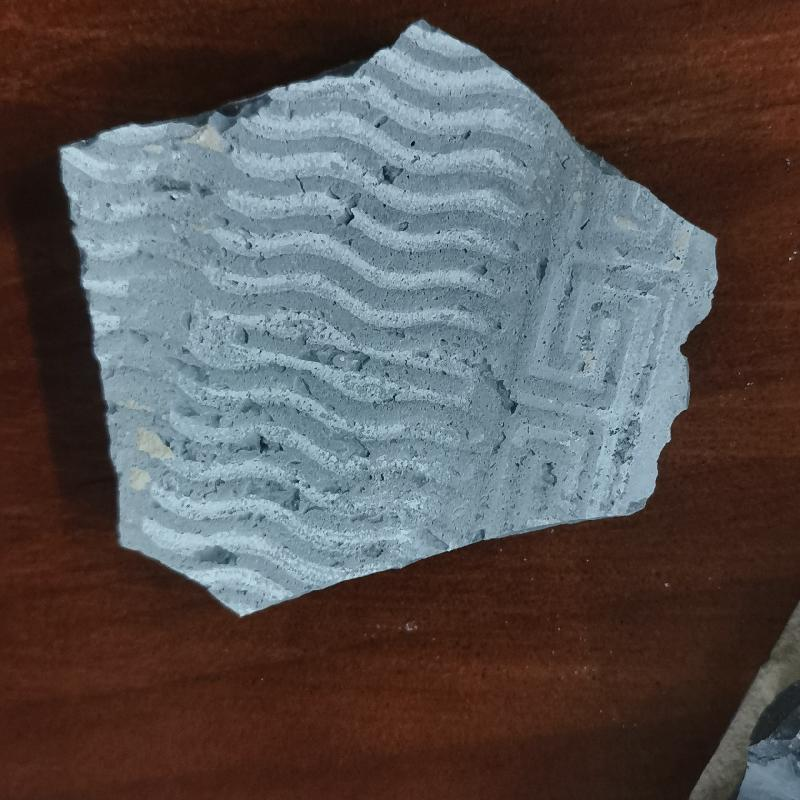tile: (59, 24, 727, 616)
